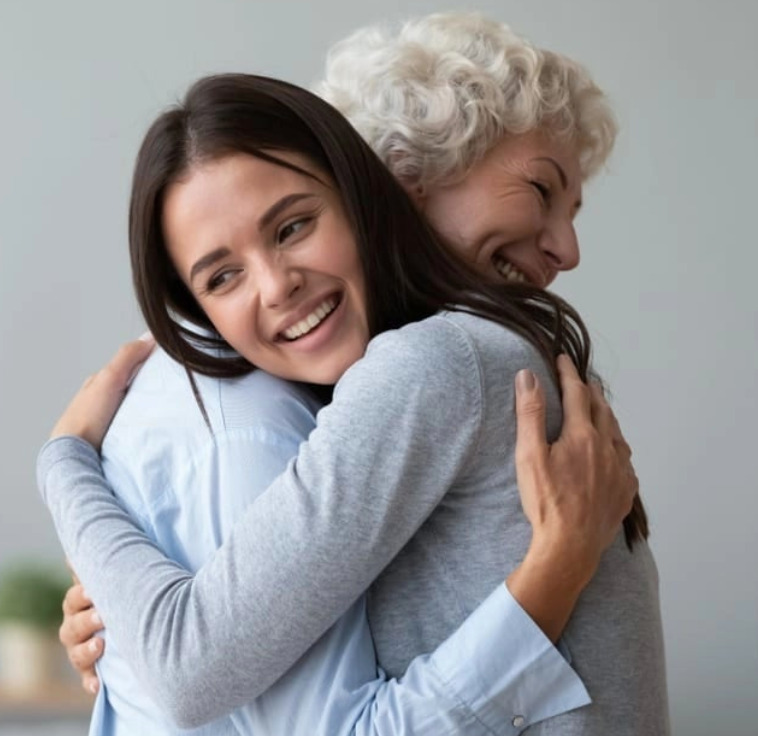Bad: (40, 14, 671, 736)
